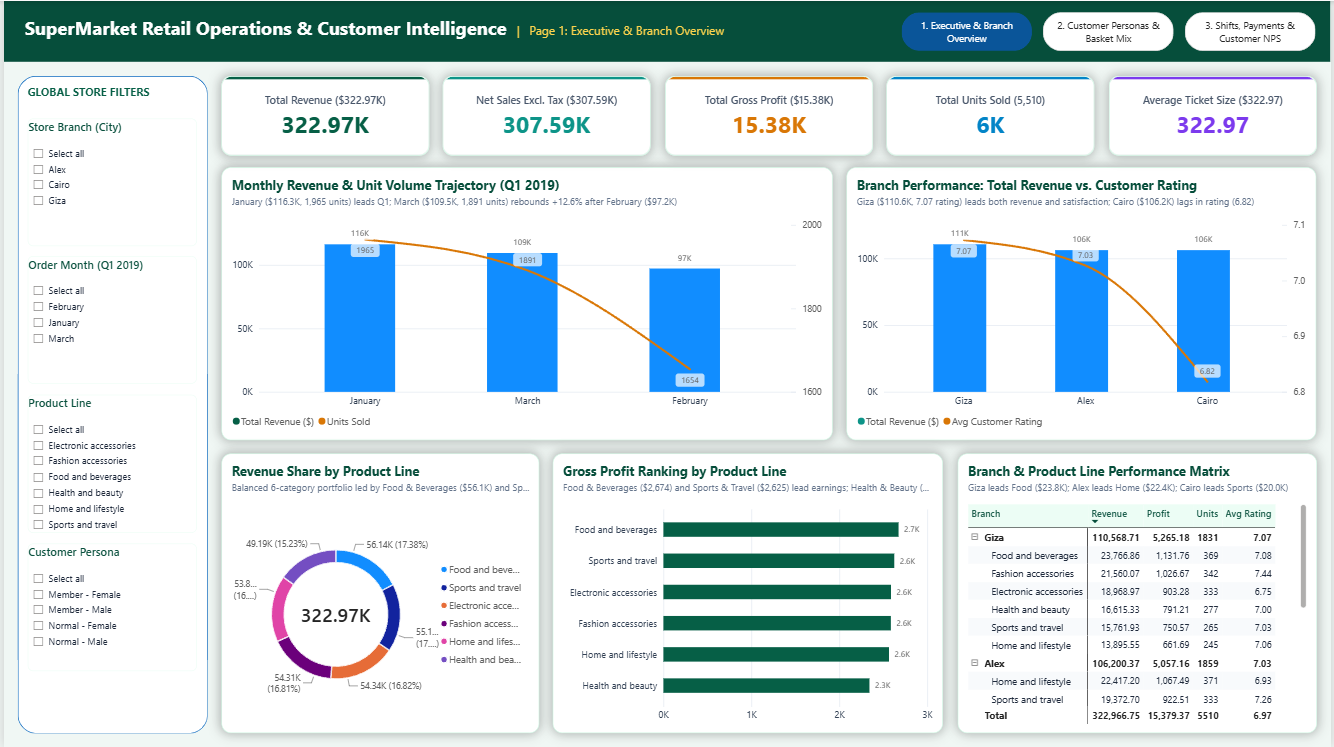

This screenshot's page, from the dashboard's own definition file:
{"tool":"powerbi","page":{"name":"1. Executive & Branch Overview","canvas":[1920,1080],"ordinal":0},"visuals":[{"type":"shape","box":[0,0,1920,88],"z":0},{"type":"shape","box":[20,108,275,952],"z":1000},{"type":"textbox","box":[20,6,1260,78],"z":2000},{"type":"textbox","box":[35,120,245,42],"z":2500},{"type":"lineClusteredColumnComboChart","title":"Monthly Revenue & Unit Volume Trajectory (Q1 2019)","fields":{"Category":["Clean_SuperMarket.Order Month"],"Y":["Sum(Clean_SuperMarket.Sales)"],"Y2":["Sum(Clean_SuperMarket.Quantity)"]},"box":[315,240,885,395],"z":4000},{"type":"lineClusteredColumnComboChart","title":"Branch Performance: Total Revenue vs. Customer Rating","fields":{"Category":["Clean_SuperMarket.Branch"],"Y":["Sum(Clean_SuperMarket.Sales)"],"Y2":["Avg(Clean_SuperMarket.Rating)"]},"box":[1220,240,680,395],"z":4500},{"type":"donutChart","title":"Revenue Share by Product Line","fields":{"Category":["Clean_SuperMarket.Product line"],"Y":["Sum(Clean_SuperMarket.Sales)"]},"box":[315,655,460,405],"z":5000},{"type":"clusteredBarChart","title":"Gross Profit Ranking by Product Line","fields":{"Category":["Clean_SuperMarket.Product line"],"Y":["Sum(Clean_SuperMarket.Gross Profit)"]},"box":[795,655,565,405],"z":5200},{"type":"pivotTable","title":"Branch & Product Line Performance Matrix","fields":{"Rows":["Clean_SuperMarket.Branch","Clean_SuperMarket.Product line"],"Values":["Sum(Clean_SuperMarket.Sales)","Sum(Clean_SuperMarket.Gross Profit)","Sum(Clean_SuperMarket.Quantity)","Avg(Clean_SuperMarket.Rating)"]},"box":[1380,655,520,405],"z":5400},{"type":"cardVisual","title":"Total Revenue ($322.97K)","fields":{"Data":["Sum(Clean_SuperMarket.Sales)"]},"box":[315,108,301,115],"z":6000},{"type":"cardVisual","title":"Net Sales Excl. Tax ($307.59K)","fields":{"Data":["Sum(Clean_SuperMarket.Net Sales (Excl Tax))"]},"box":[636,108,301,115],"z":6500},{"type":"cardVisual","title":"Total Gross Profit ($15.38K)","fields":{"Data":["Sum(Clean_SuperMarket.Gross Profit)"]},"box":[957,108,301,115],"z":7000},{"type":"cardVisual","title":"Total Units Sold (5,510)","fields":{"Data":["Sum(Clean_SuperMarket.Quantity)"]},"box":[1278,108,301,115],"z":7500},{"type":"cardVisual","title":"Average Ticket Size ($322.97)","fields":{"Data":["Avg(Clean_SuperMarket.Sales)"]},"box":[1599,108,301,115],"z":8000},{"type":"slicer","title":"Store Branch (City)","fields":{"Values":["Clean_SuperMarket.Branch"]},"box":[35,170,245,185],"z":11000},{"type":"slicer","title":"Order Month (Q1 2019)","fields":{"Values":["Clean_SuperMarket.Order Month"]},"box":[35,370,245,185],"z":11100},{"type":"slicer","title":"Product Line","fields":{"Values":["Clean_SuperMarket.Product line"]},"box":[35,570,245,200],"z":11200},{"type":"slicer","title":"Customer Persona","fields":{"Values":["Clean_SuperMarket.Customer Persona"]},"box":[35,785,245,185],"z":11300},{"type":"pageNavigator","box":[1300,16,600,56],"z":15000}]}

Visuals, with their boxes in screenshot pixels (x1, y1, x2, y2), scaled from the page's 1920x1080 canvas onto the 1334x747 screenshot:
shape: rect(0, 0, 1333, 61)
shape: rect(14, 75, 205, 733)
textbox: rect(14, 4, 889, 58)
textbox: rect(24, 83, 195, 112)
"Monthly Revenue & Unit Volume Trajectory (Q1 2019)" lineClusteredColumnComboChart: rect(219, 166, 834, 439)
"Branch Performance: Total Revenue vs. Customer Rating" lineClusteredColumnComboChart: rect(848, 166, 1320, 439)
"Revenue Share by Product Line" donutChart: rect(219, 453, 538, 733)
"Gross Profit Ranking by Product Line" clusteredBarChart: rect(552, 453, 945, 733)
"Branch & Product Line Performance Matrix" pivotTable: rect(959, 453, 1320, 733)
"Total Revenue ($322.97K)" cardVisual: rect(219, 75, 428, 154)
"Net Sales Excl. Tax ($307.59K)" cardVisual: rect(442, 75, 651, 154)
"Total Gross Profit ($15.38K)" cardVisual: rect(665, 75, 874, 154)
"Total Units Sold (5,510)" cardVisual: rect(888, 75, 1097, 154)
"Average Ticket Size ($322.97)" cardVisual: rect(1111, 75, 1320, 154)
"Store Branch (City)" slicer: rect(24, 118, 195, 246)
"Order Month (Q1 2019)" slicer: rect(24, 256, 195, 384)
"Product Line" slicer: rect(24, 394, 195, 533)
"Customer Persona" slicer: rect(24, 543, 195, 671)
pageNavigator: rect(903, 11, 1320, 50)
